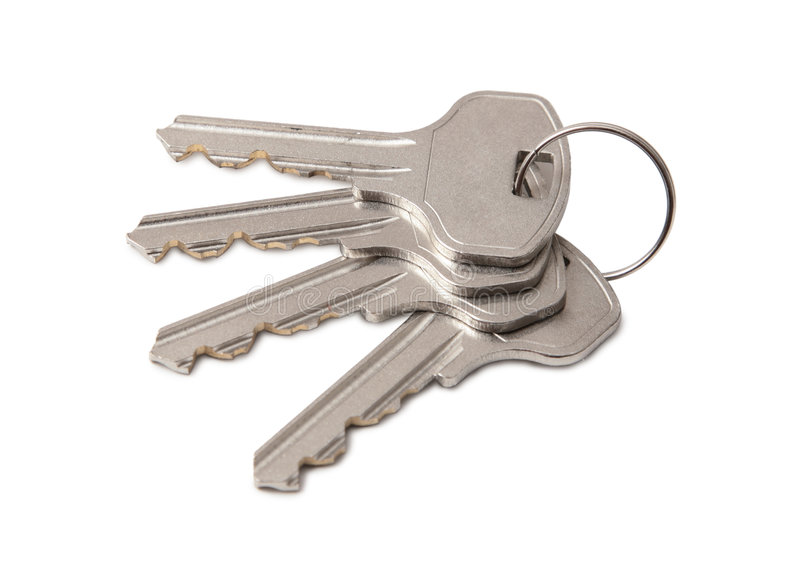key: (126, 91, 634, 505)
